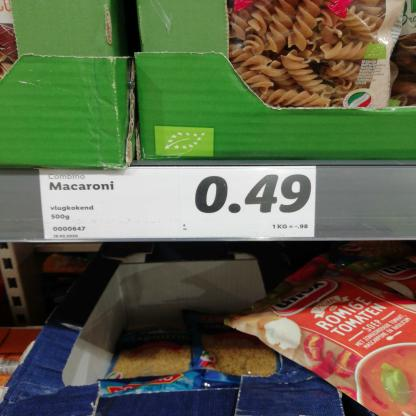prtg: (40, 166, 317, 240)
